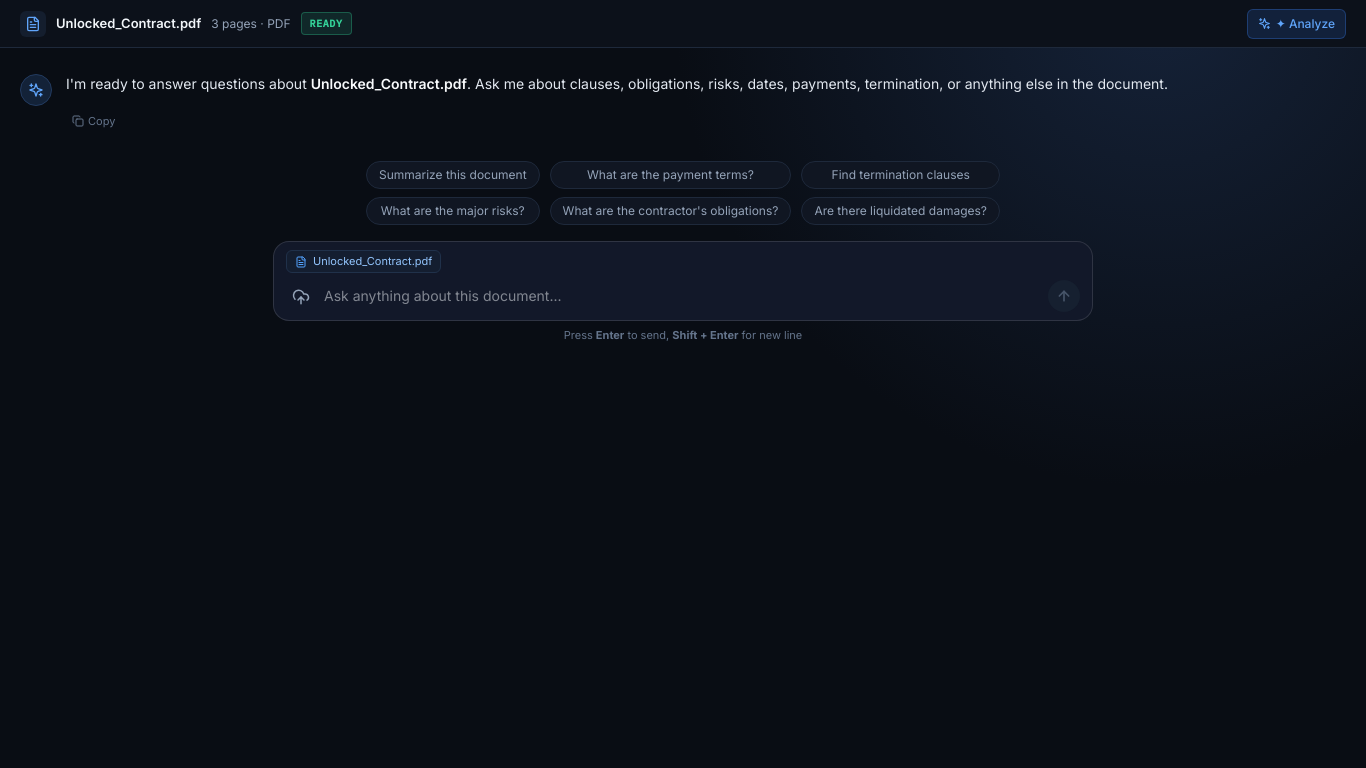
Test case: Password-Protected PDF Chat & Grounded QA Integration › Multiple different questions against unlocked PDF answer accurately from decrypted pages
Note: Obligations question
Step 1. Click the button "What are the contractor's obligations?" → (670,211), box [550,197,791,225]
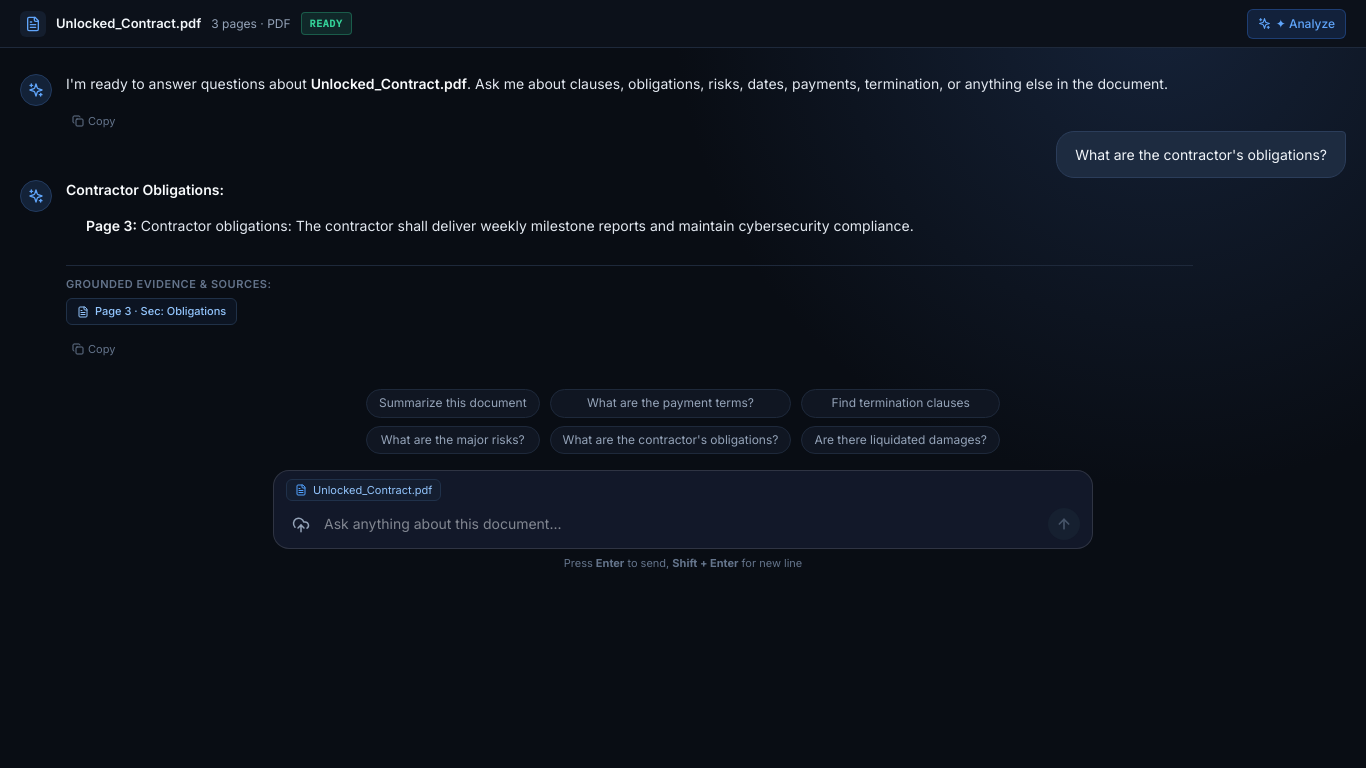
Now the text "Contractor Obligations:" is shown, box [66,181,224,198]
Now the list item "weekly milestone reports" is shown, box [137,216,914,234]
Note: Input custom query for payment
Step 2. Type "What is the rate per hour?" into the text box with placeholder "Ask anything about this document..." → (682,524), box [324,507,1040,540]
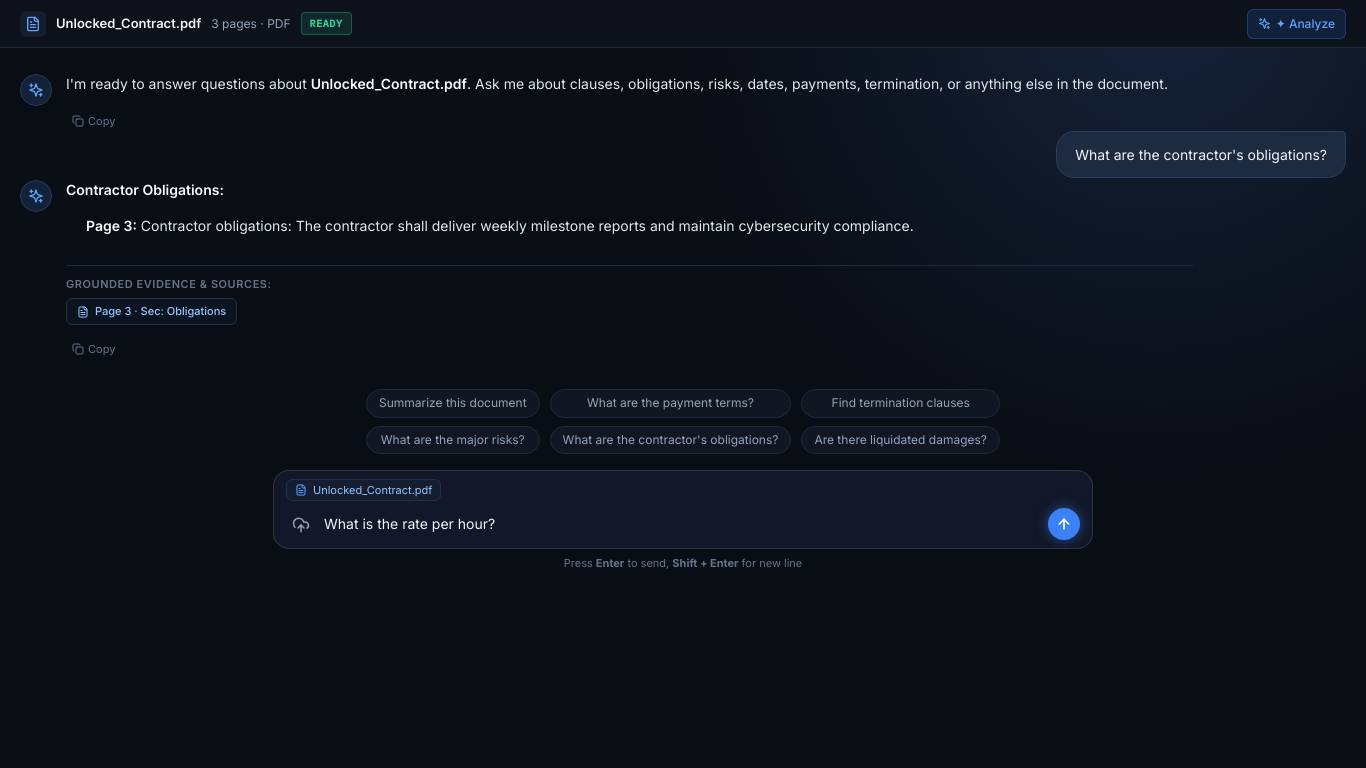
Step 3. Press Enter in the text box with placeholder "Ask anything about this document...", box [324,507,1040,540]
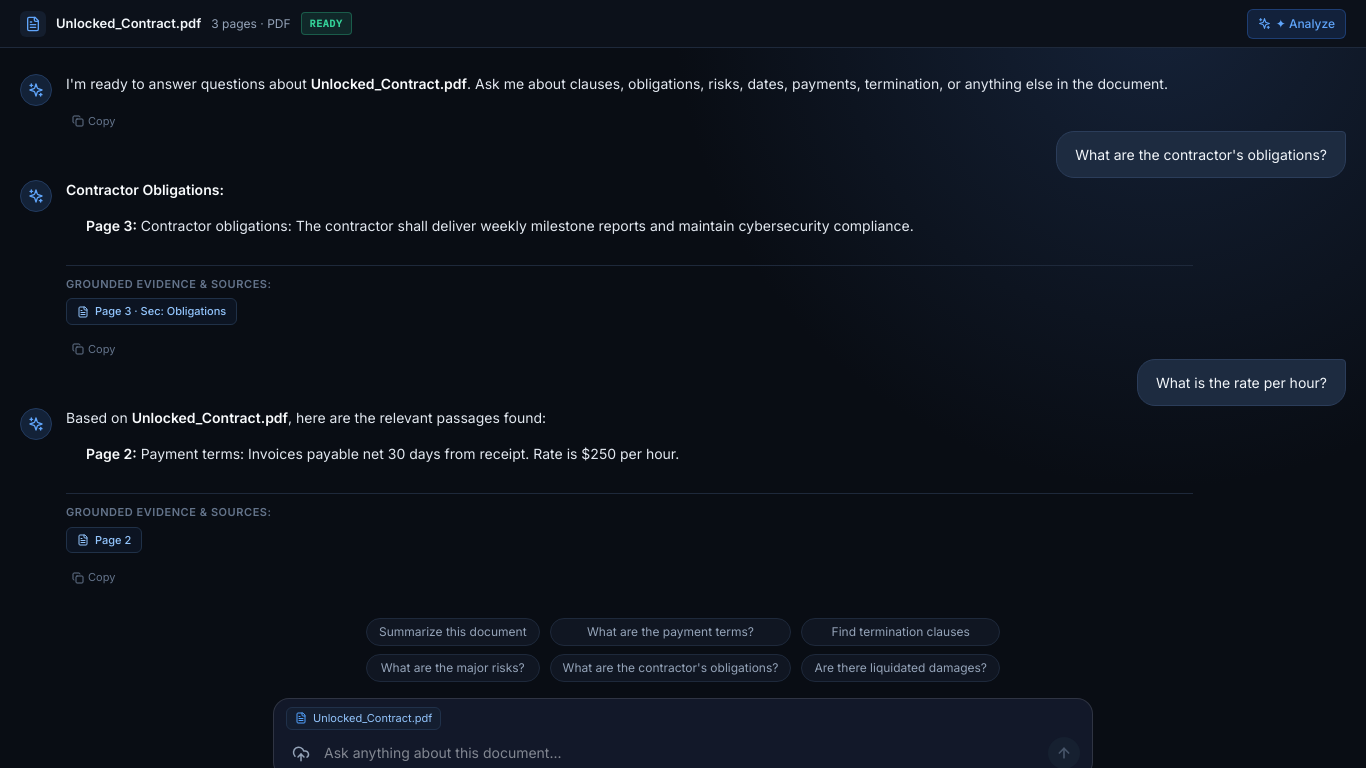
Now the text "relevant passages found" is shown, box [288,409,546,426]
Now the list item "$250 per hour" is shown, box [137,445,679,462]
